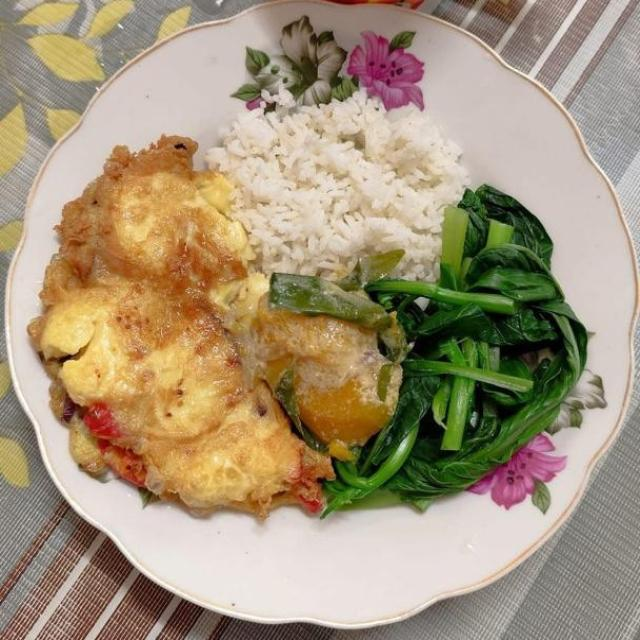Egg: (29, 134, 338, 521)
Plate: (93, 486, 109, 489)
Rice: (201, 102, 475, 285)
Vegetables: (254, 185, 595, 526)
